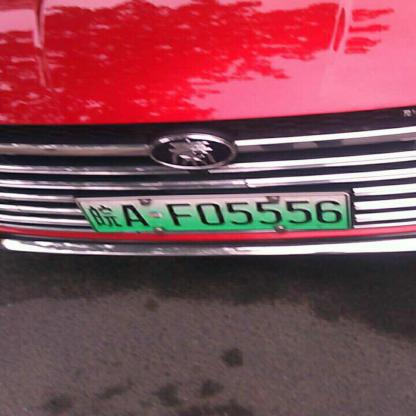lp: (79, 195, 349, 232)
